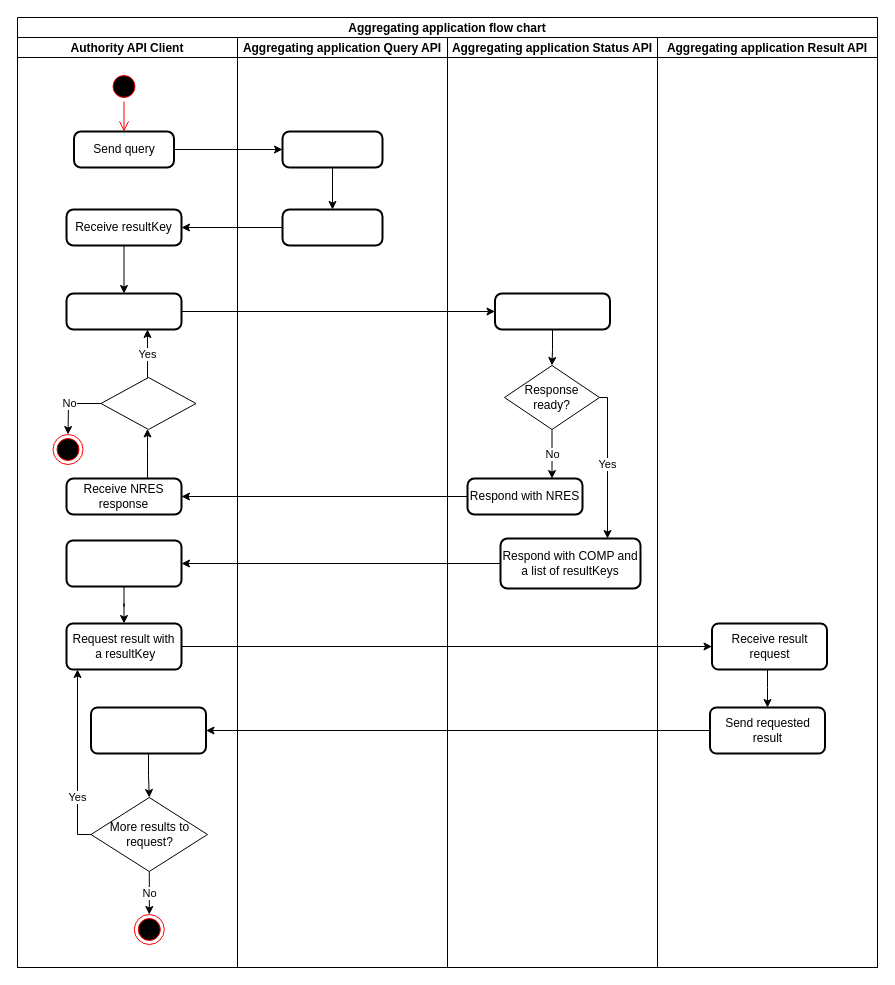
The diagram is 895 pixels wide and 985 high, and some of its shapes have lost their labels. Each missing label, with the centre of its shape:
Receive COMP response with resultKeys: [123,563]
Receive query: [332,149]
Receive requested result: [148,730]
Receive status query: [552,311]
Send resultKey: [332,227]
Send status query with resultKey: [123,311]
Try again?: [148,403]
